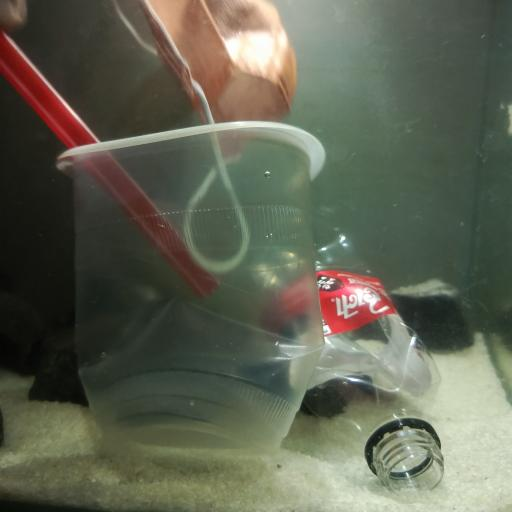mask: (113, 2, 299, 264)
plastic_bottle: (256, 214, 444, 492)
plastic_cup: (56, 119, 328, 460)
plastic_straw: (0, 28, 221, 298)
